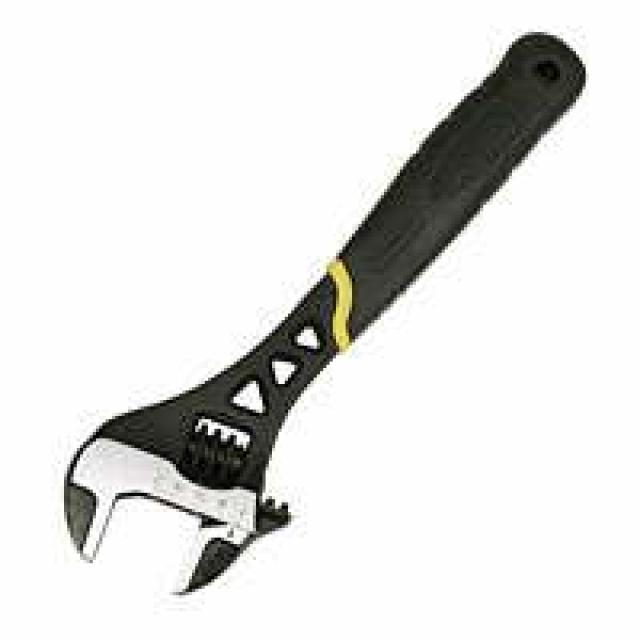wrench: (48, 41, 617, 640)
